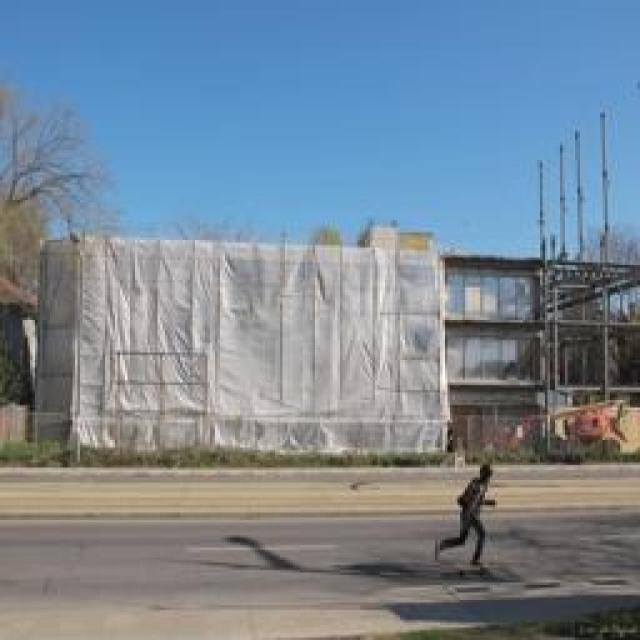Helmet: (468, 444, 518, 486)
Safety Vest: (447, 457, 489, 544)
